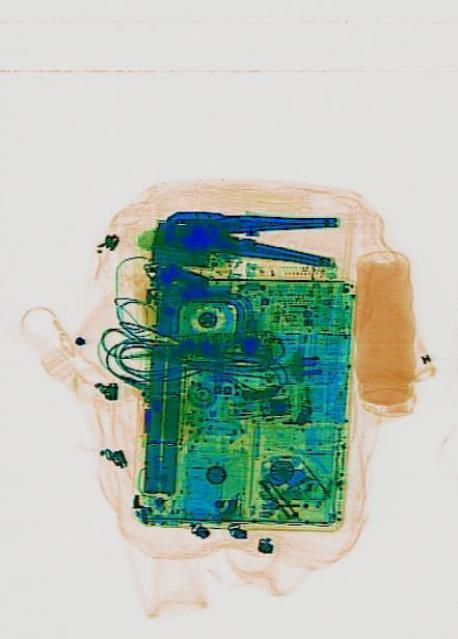Pliers: (161, 199, 335, 268)
